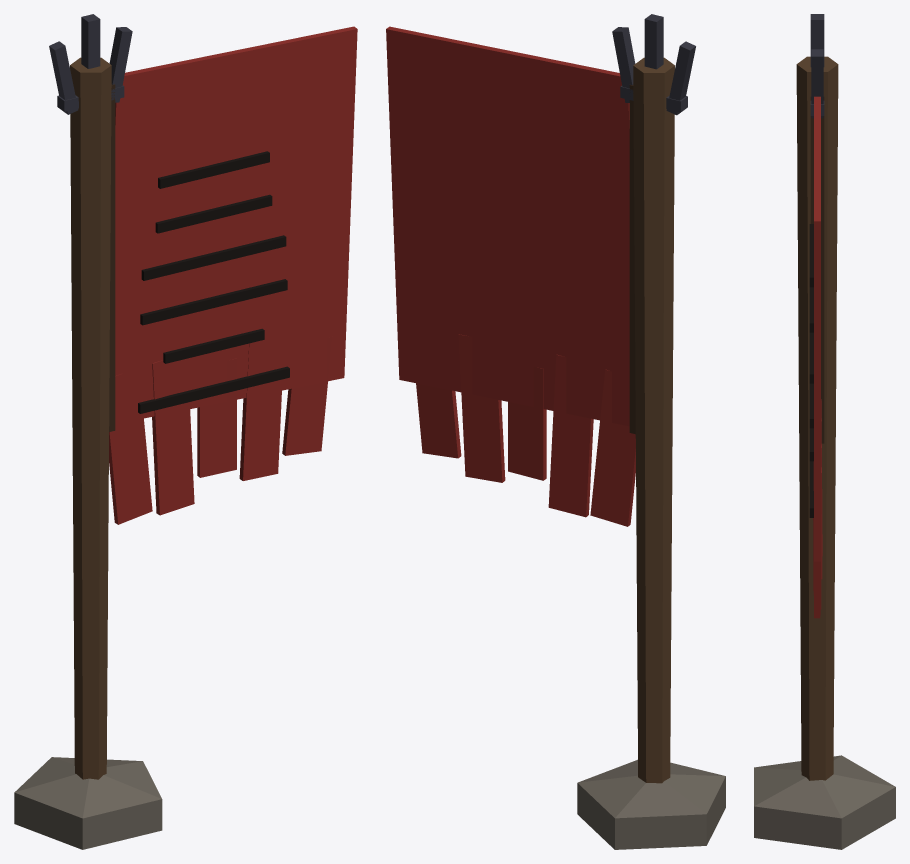
The model's file is boss_grab_flag_b05.glb.
3 views of the same model, side by side, from view 1: azimuth 30°, elevation 25°; view 2: azimuth 150°, elevation 25°; view 3: azimuth 270°, elevation 25° (orthographic).
Parts seen in each view (by area): view 1: boss_grab_flag_b05; view 2: boss_grab_flag_b05; view 3: boss_grab_flag_b05.
Boxes of the visible parts, box(x1,y1,x2,y2) form: boss_grab_flag_b05: box(14, 14, 357, 849); boss_grab_flag_b05: box(386, 14, 725, 849); boss_grab_flag_b05: box(754, 14, 895, 849).
Bounding box in the file's own units: 1.1 × 2.59 × 0.4073.
